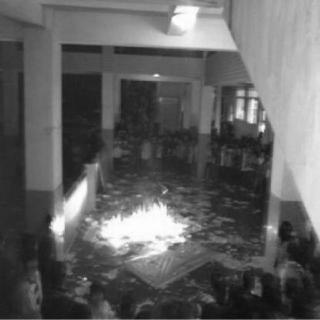Fire: (98, 188, 194, 264)
